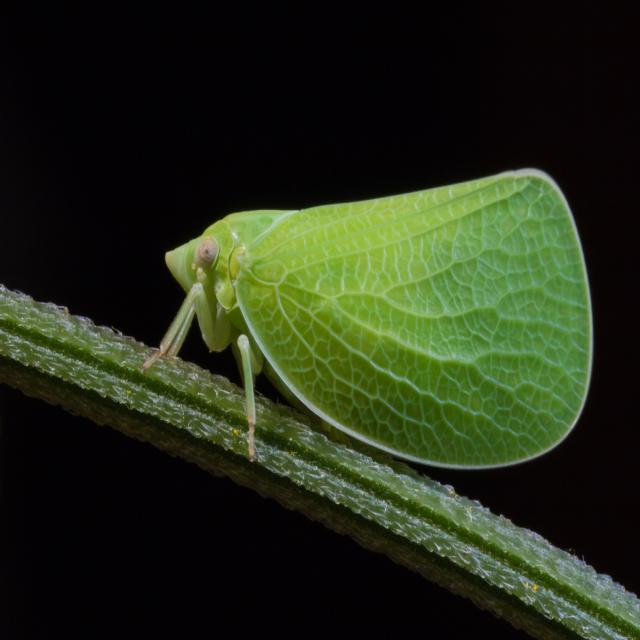wereng pada daun padi: (139, 166, 595, 471)
